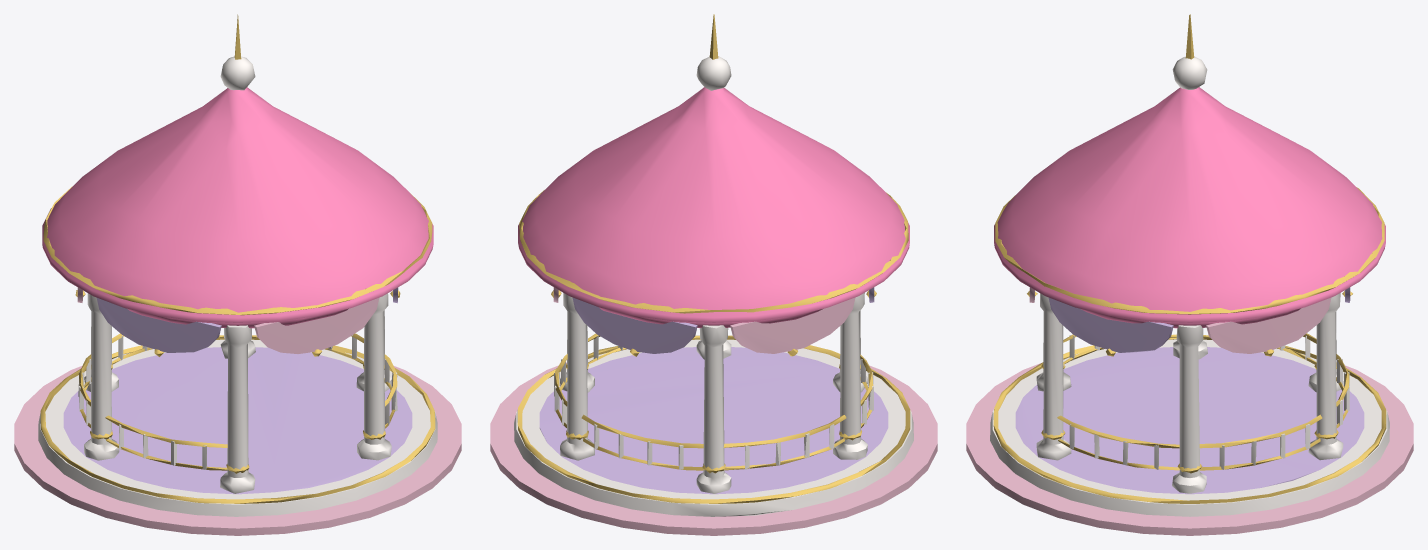
Rendered from gazebo.glb.
The picture shows the model from 3 angles, left to right: view 1: azimuth 30°, elevation 25°; view 2: azimuth 150°, elevation 25°; view 3: azimuth 270°, elevation 25°; orthographic projection.
Visible parts, largest first — view 1: gazebo; view 2: gazebo; view 3: gazebo.
Boxes of the visible parts, box(x1,y1,x2,y2) form: gazebo: box(14, 14, 461, 535); gazebo: box(490, 14, 937, 535); gazebo: box(966, 14, 1413, 535).
Bounding box in the file's own units: 7.7 × 8.07 × 7.66.
